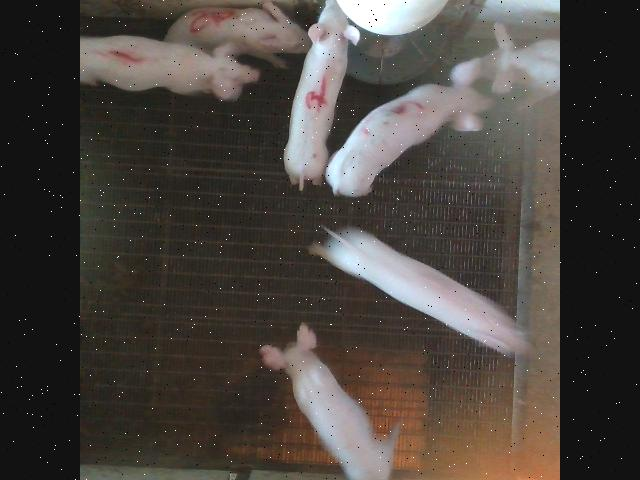pig-1: (80, 35, 259, 100)
pig-2: (309, 226, 529, 354)
pig-3: (326, 58, 493, 195)
pig-4: (284, 0, 360, 189)
pig-5: (165, 1, 311, 64)
